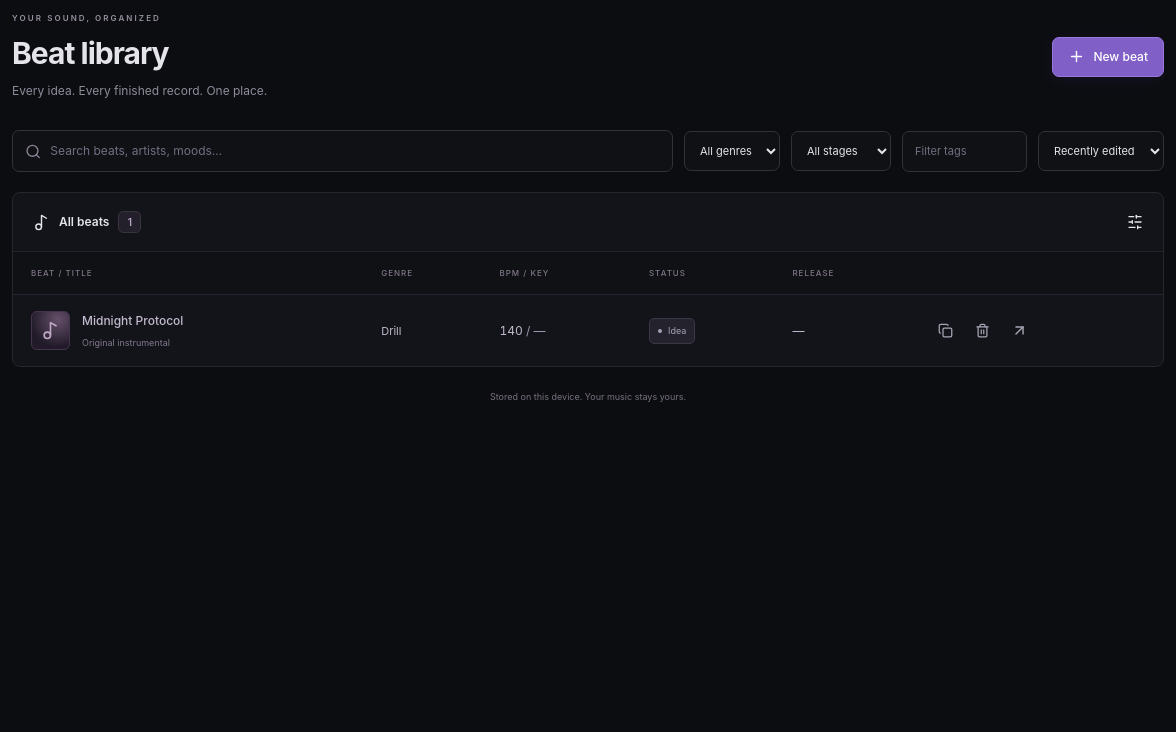
Test case: searches the rendered library and shows actual beat data
Expected: the text "Midnight Protocol" is shown, [82, 312, 183, 330]
Step 1. Type "other" into the field labelled "Search beats" → (361, 151), box [50, 131, 672, 171]
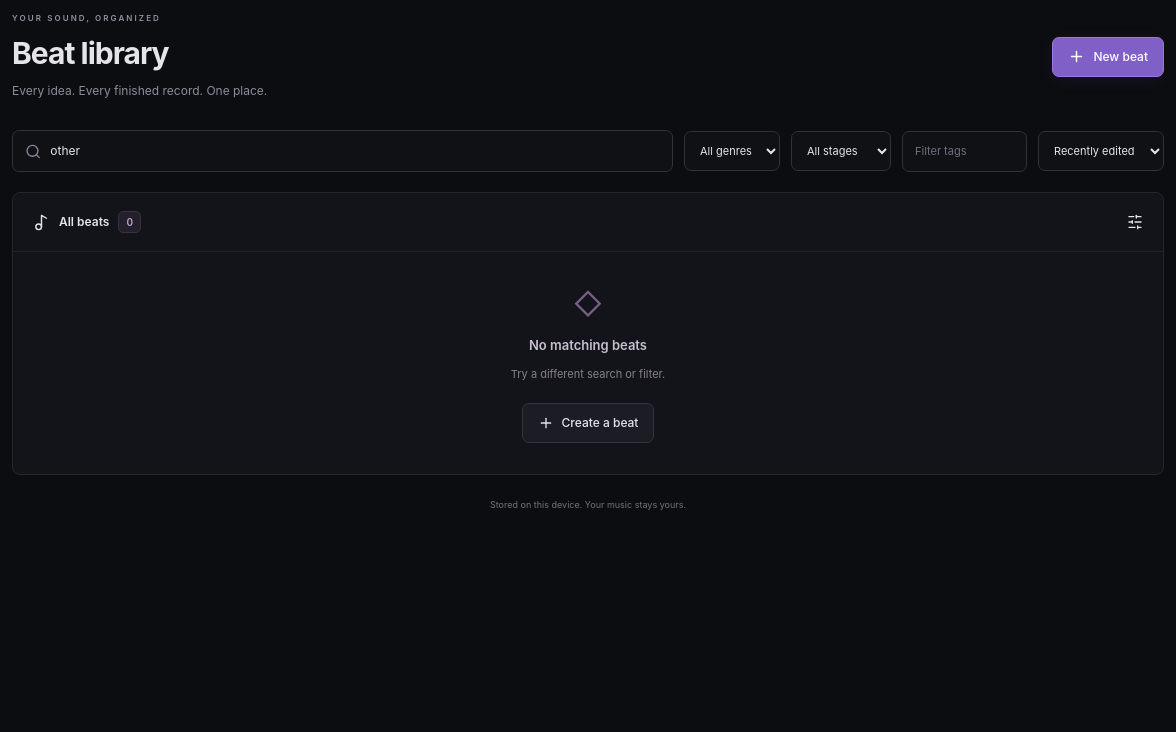
Now the link "Midnight Protocol" is gone
Now the heading "No matching beats" is shown, box [529, 336, 647, 356]
